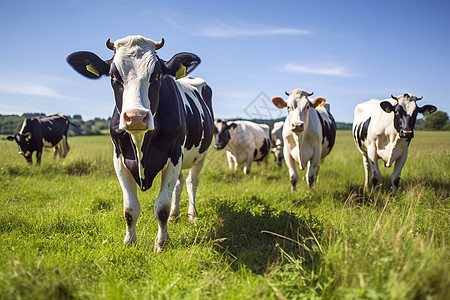MilkCow: (61, 32, 219, 255), (348, 89, 438, 195), (269, 88, 338, 191), (208, 116, 278, 172), (12, 110, 77, 164)
